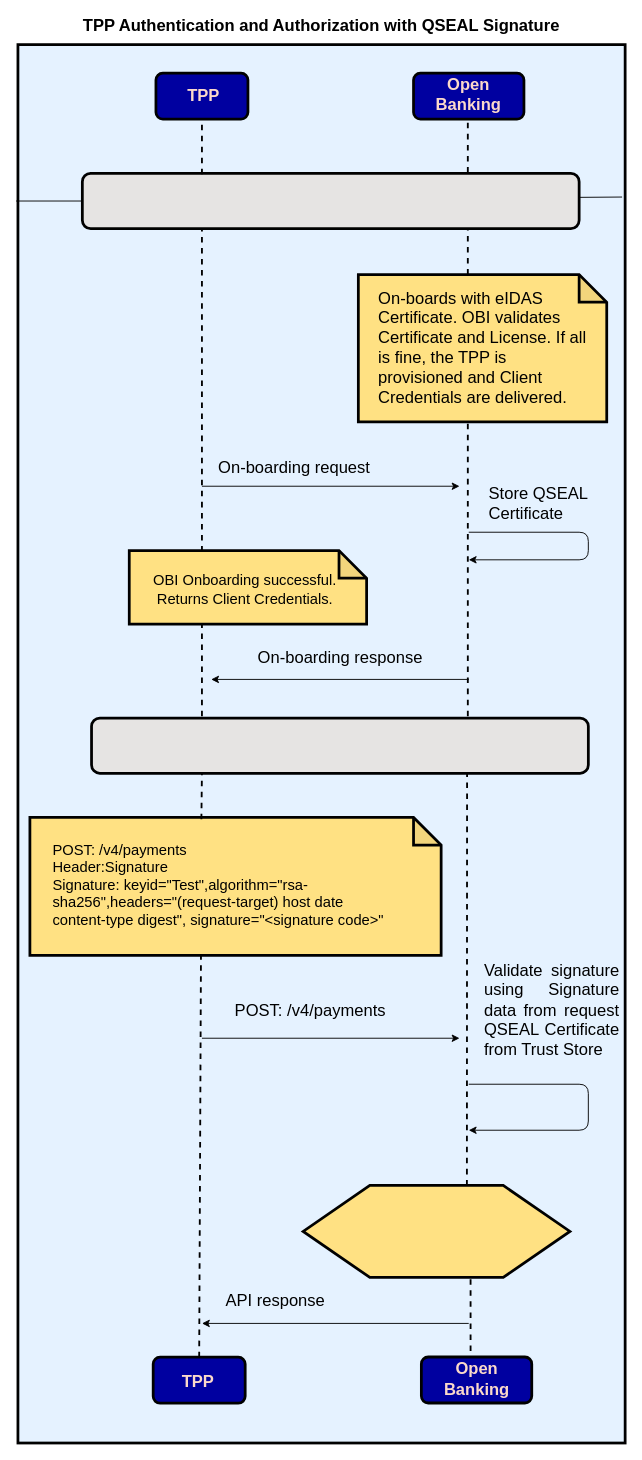
Some shapes in this 642 by 1460 pixel diagram are drawn without their labels. The shapes that lost their labels are listed below. From the top down, each one's centre as x and y in pixels, then its label:
At pixel 330 201: "TPP Onboarding FLow".
At pixel 339 745: "API Call Flow".
At pixel 436 1231: "If the signature validation is successful, GW forwards Request to Microservice".
